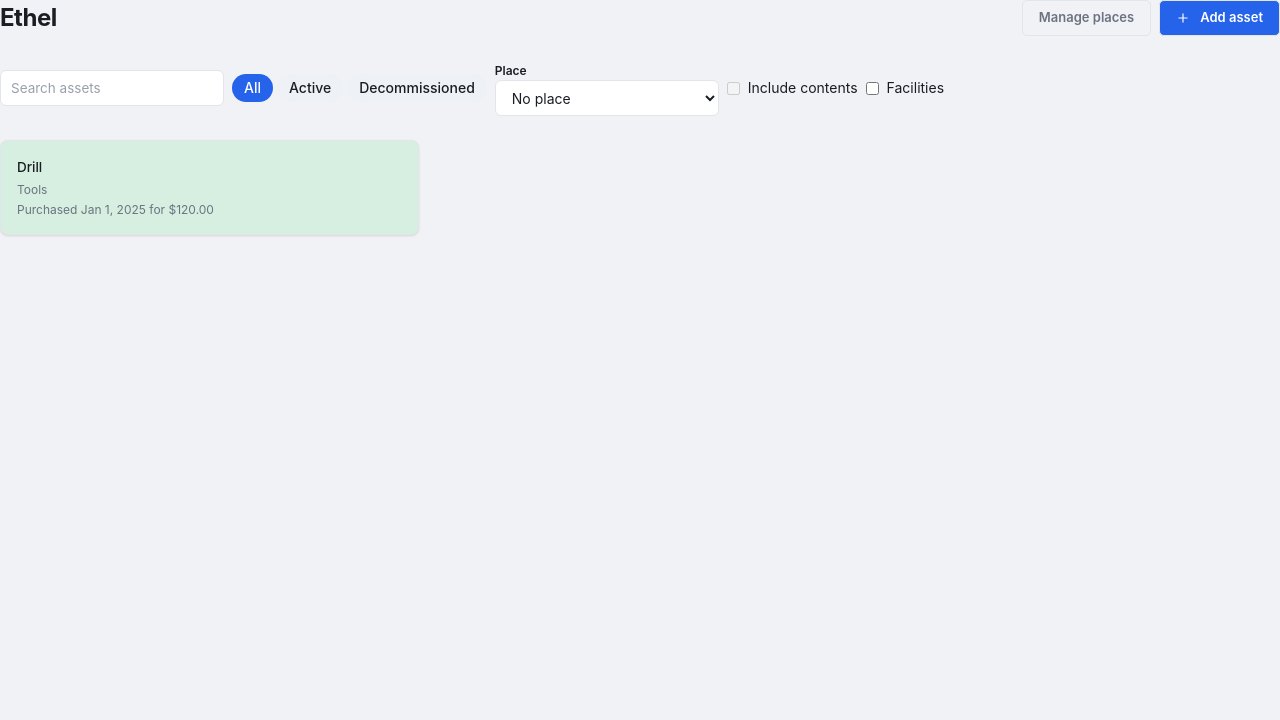
Test: EthelPage › shows the TCO panel with the per-year total when an asset is opened
Click the text "Drill": {"x": 30, "y": 167} left=17, top=159, right=42, bottom=175
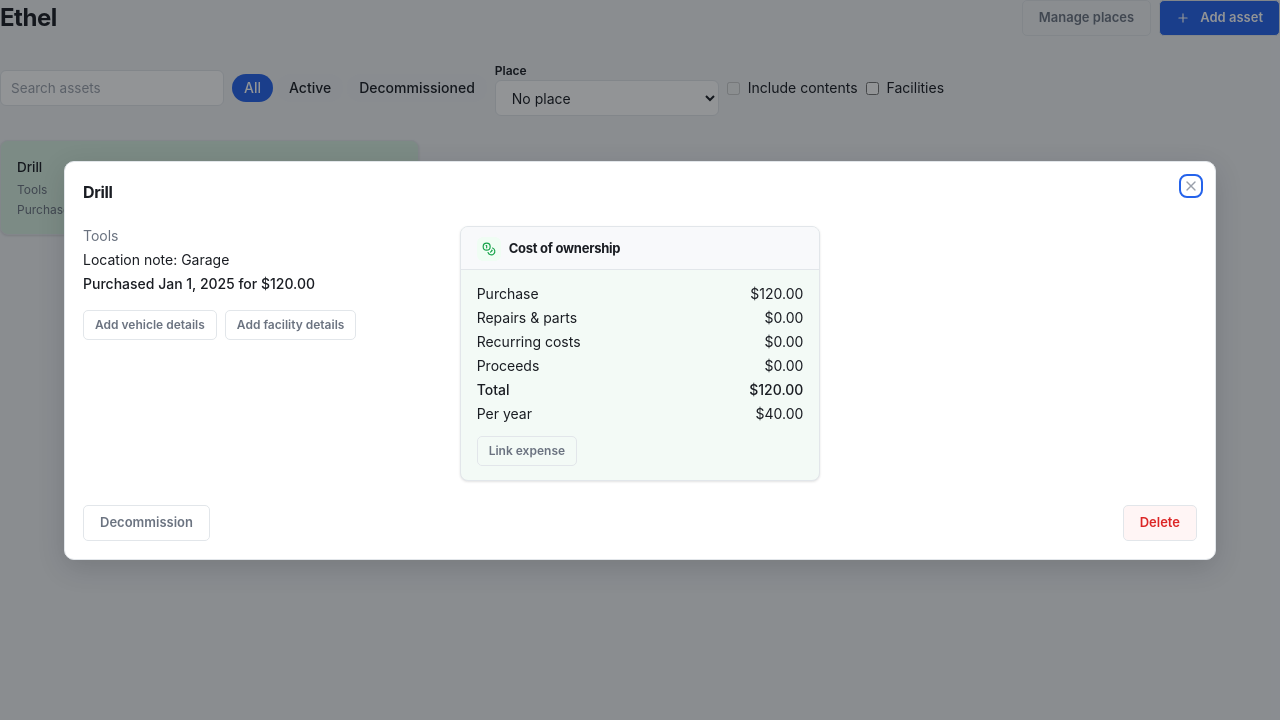
Expected: the text "Per year" is shown, left=477, top=404, right=532, bottom=424
Expected: the text "$40.00" is shown, left=756, top=404, right=803, bottom=424
